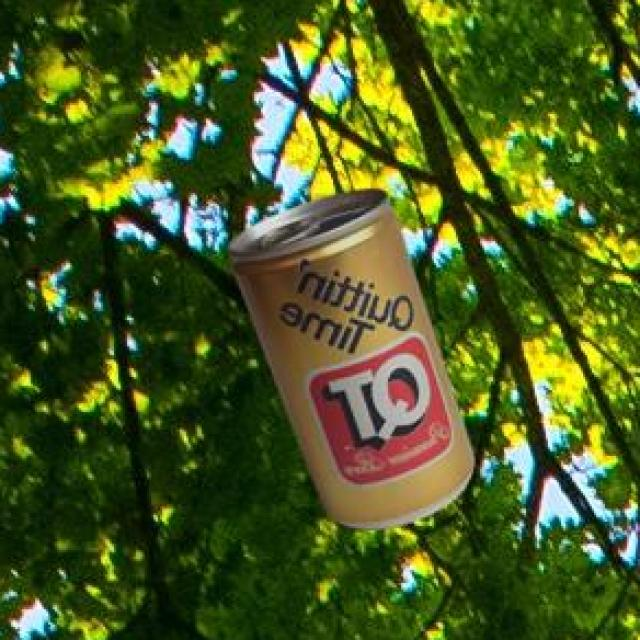logam: (225, 192, 470, 534)
